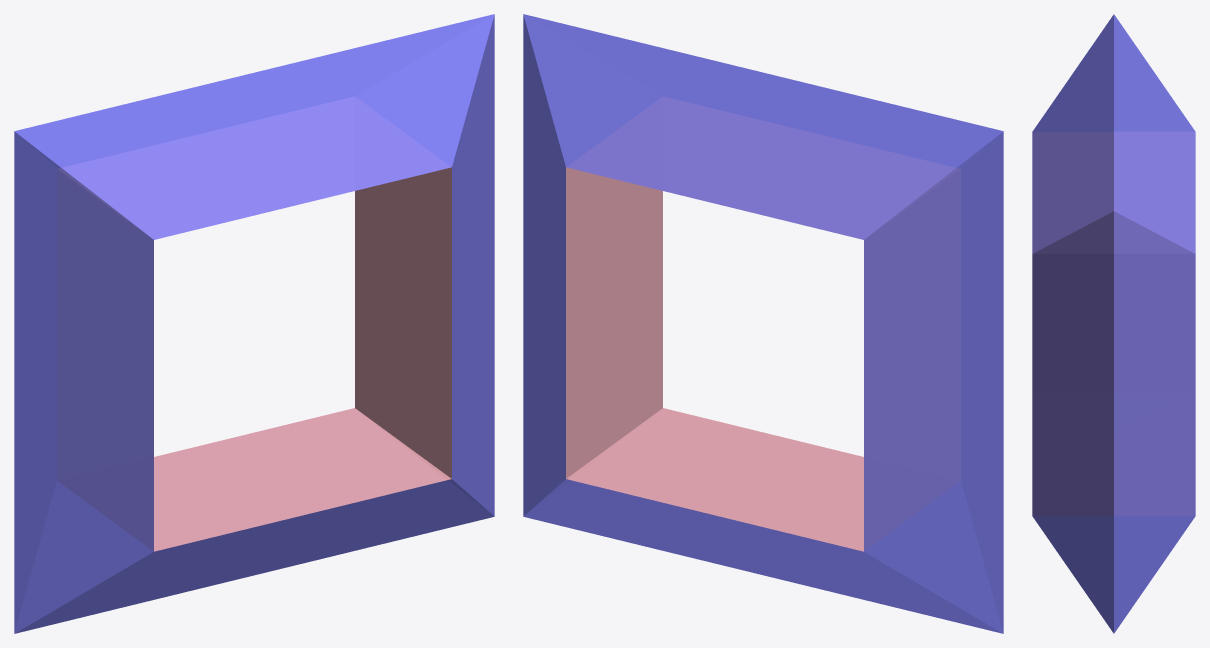
The model's file is Regular4TetragonalToroid.obj.
3 views of the same model, side by side, from view 1: azimuth 30°, elevation 25°; view 2: azimuth 150°, elevation 25°; view 3: azimuth 270°, elevation 25° (orthographic). The views are drawn at different scales.
Bounding box in the file's own units: 2 × 2 × 0.7.
